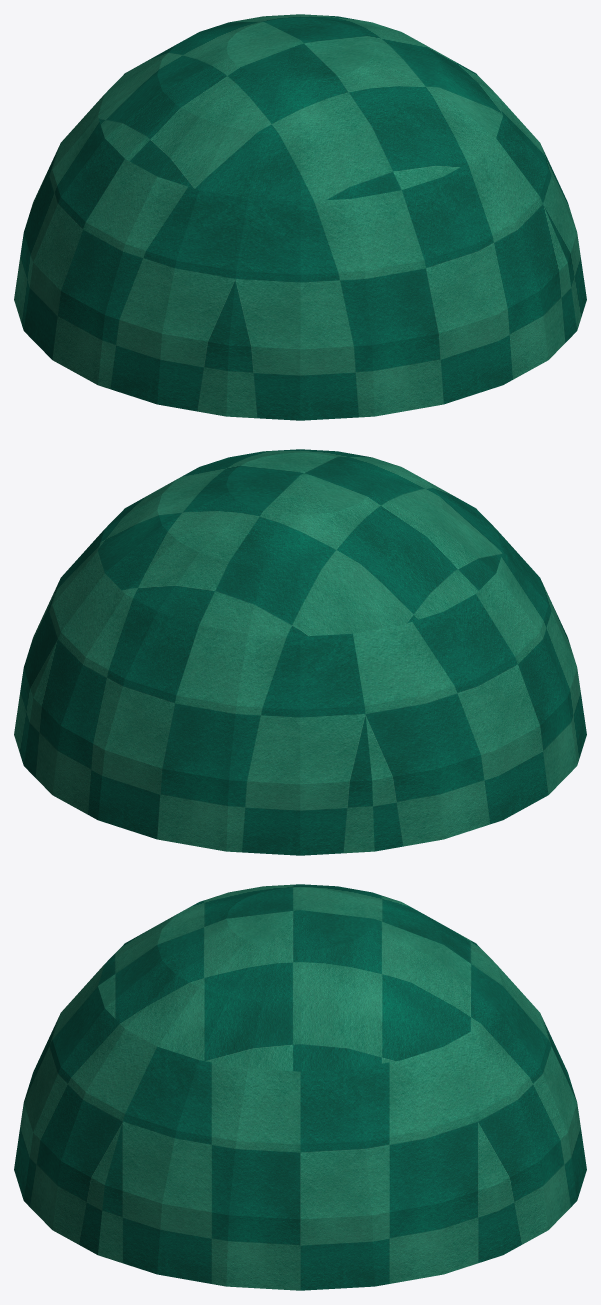
File: enclosed_sphere.gltf
The picture shows the model from 3 angles, top to bottom: view 1: azimuth 30°, elevation 25°; view 2: azimuth 150°, elevation 25°; view 3: azimuth 270°, elevation 25°; orthographic projection.
Visible parts, largest first — view 1: enclosed_sphere_glb; view 2: enclosed_sphere_glb; view 3: enclosed_sphere_glb.
Part boxes in pixels (<box>): enclosed_sphere_glb: <box>14,14,586,420</box>; enclosed_sphere_glb: <box>14,449,586,855</box>; enclosed_sphere_glb: <box>14,884,586,1290</box>.
Bounding box in the file's own units: 2.42 × 1.21 × 2.42.
Materials: 1 (1 with a texture image).
